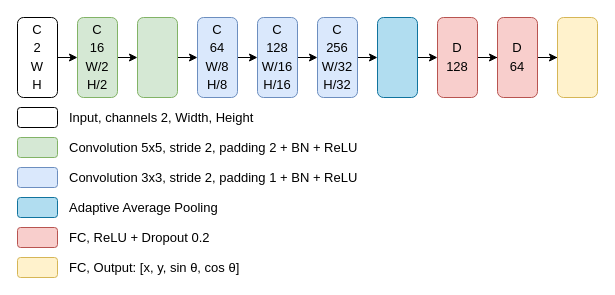
This 615x295 diagram has some shape labels left out. The shapes that lost their labels are listed below. From the top down, each one's box as (x1, y1, x2, y2) in pixels, then its label:
(136, 16, 178, 98): С 32 W/4 H/4
(376, 16, 418, 98): С 256 1 1
(556, 16, 598, 98): D 4
